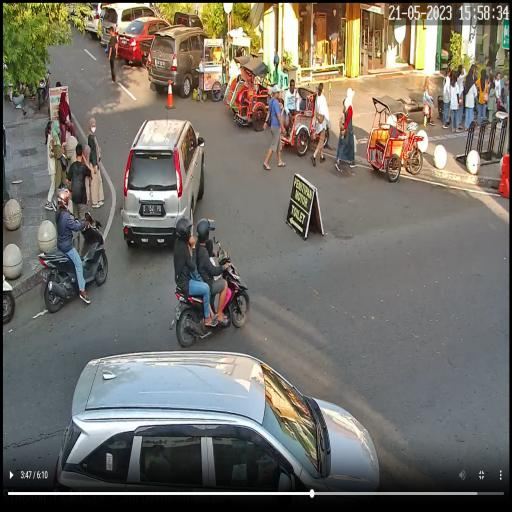mobil: (53, 331, 383, 512), (120, 118, 206, 252), (151, 24, 213, 98), (119, 11, 169, 69), (103, 1, 158, 51)
motor: (168, 244, 248, 346), (35, 204, 112, 308)
